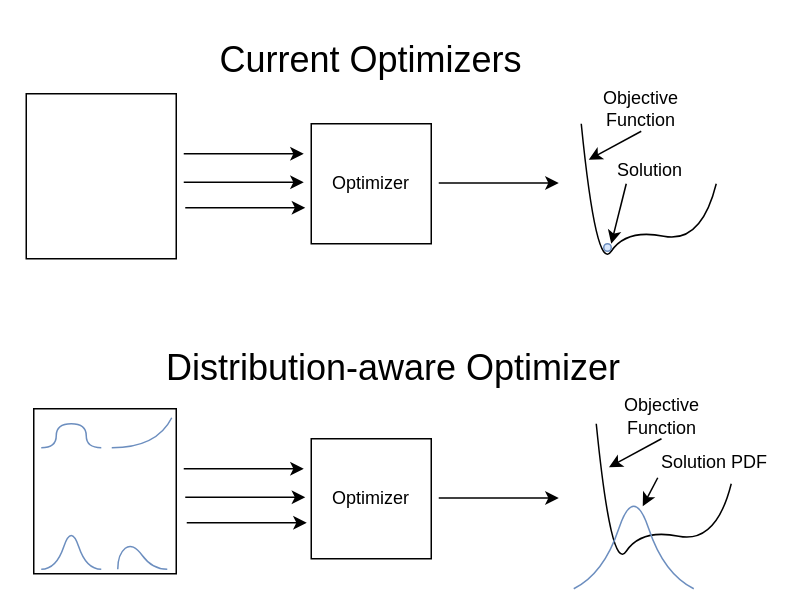
The diagram is 797 pixels wide and 615 high, and some of its shapes have lost their labels. Each missing label, with the centre of its shape:
Variables and Params (distribution): the point at 104,490
Variables and Params (float): the point at 100,175
